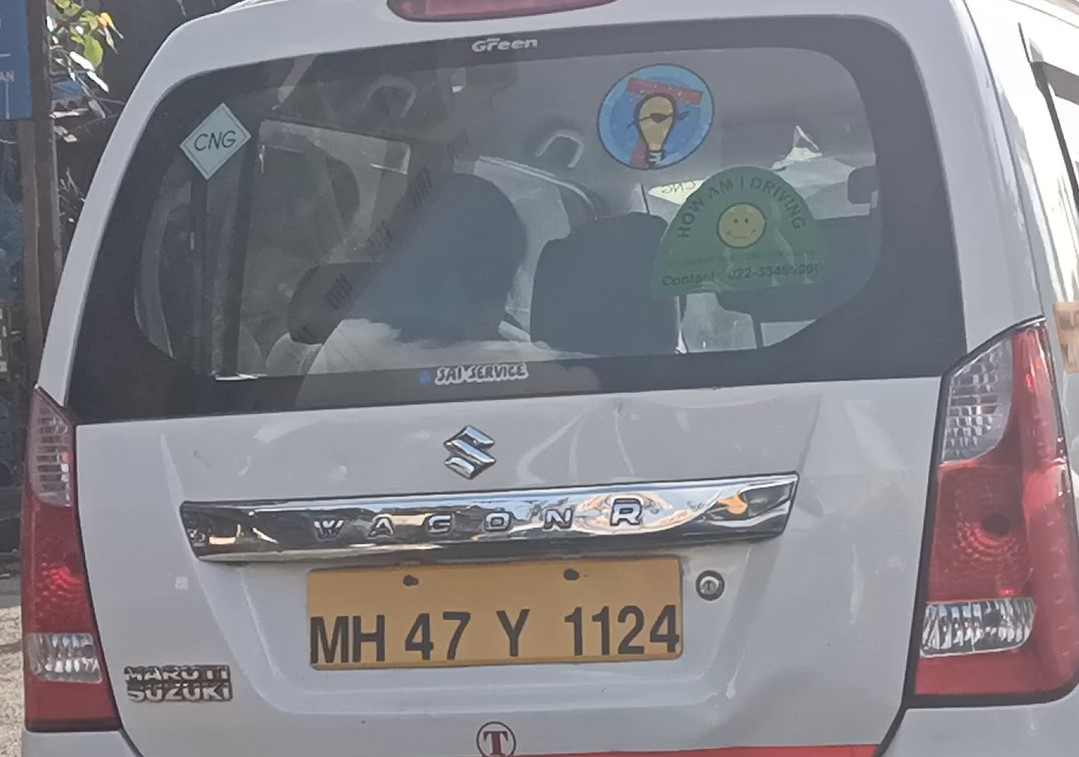MH47Y1124: (309, 557, 685, 666)
